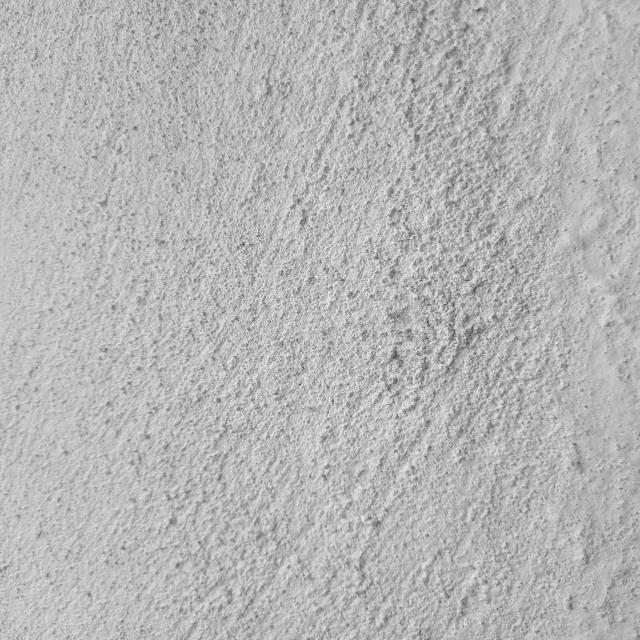rough and patchy surface: (8, 11, 622, 624)
